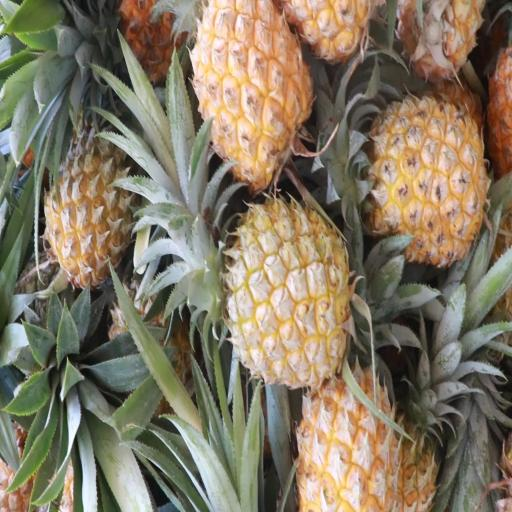Pineapple - v8 v1: (212, 191, 350, 394), (342, 92, 488, 264), (294, 295, 404, 512), (186, 0, 310, 189), (44, 101, 134, 291)
